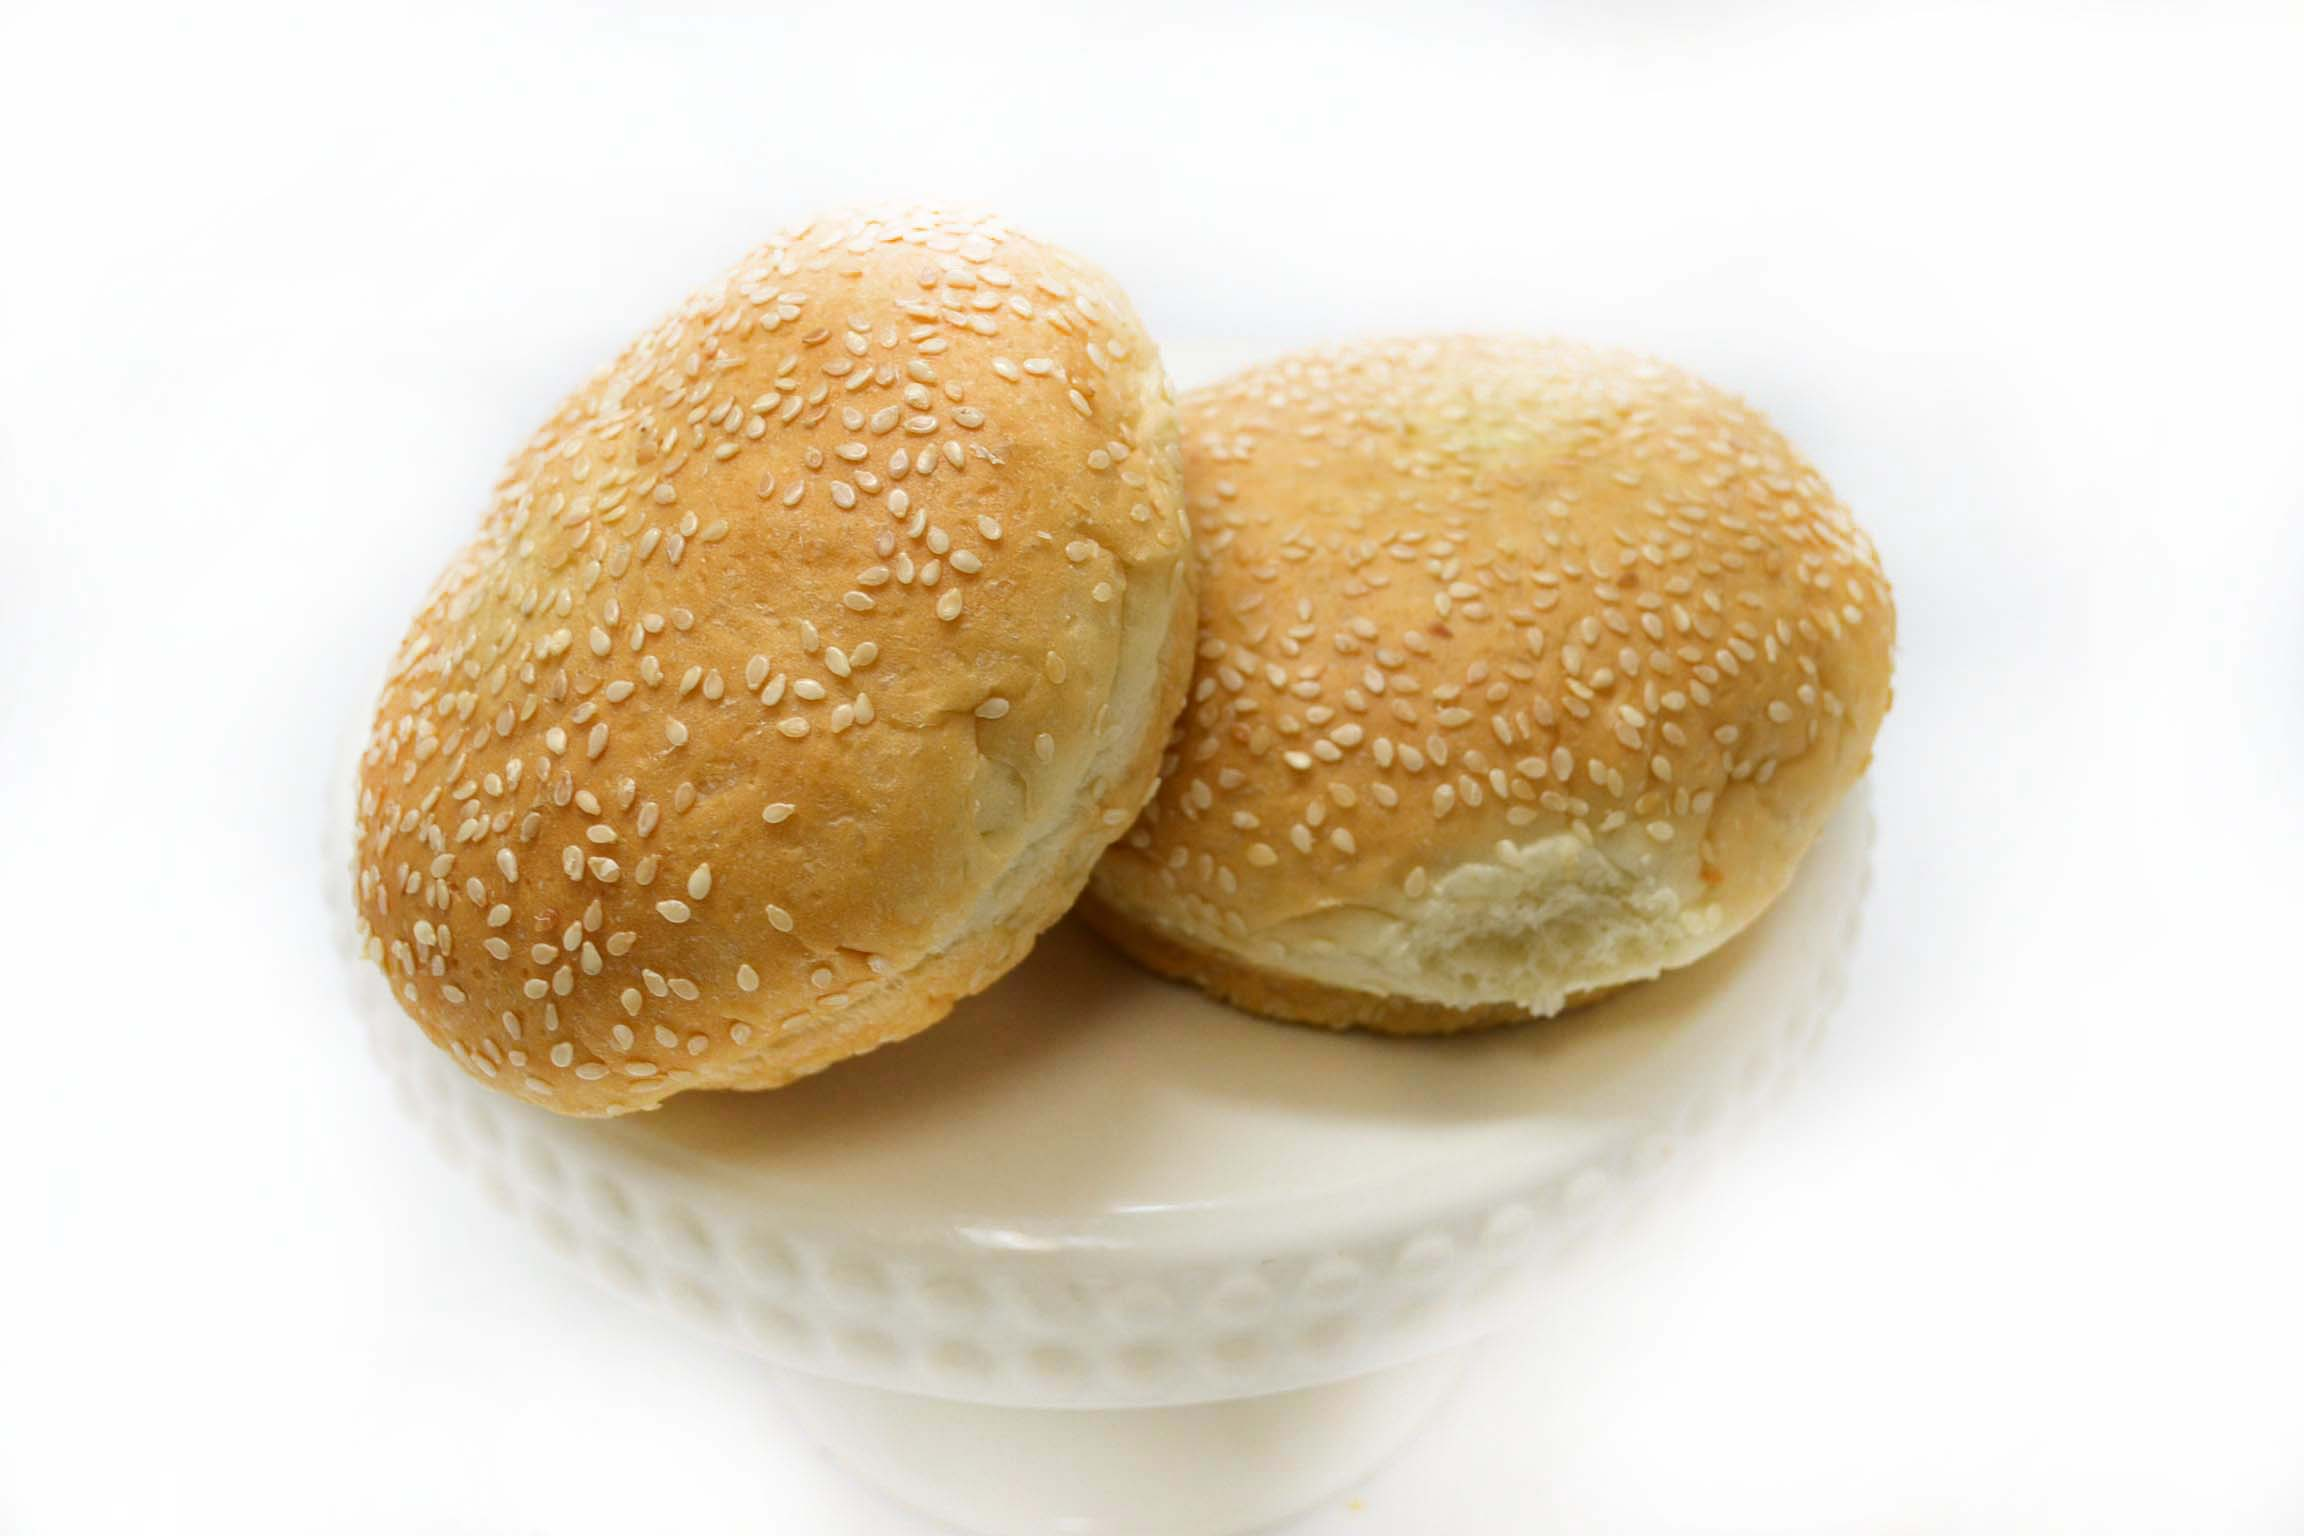hamburger_buns: (333, 161, 2019, 1186)
